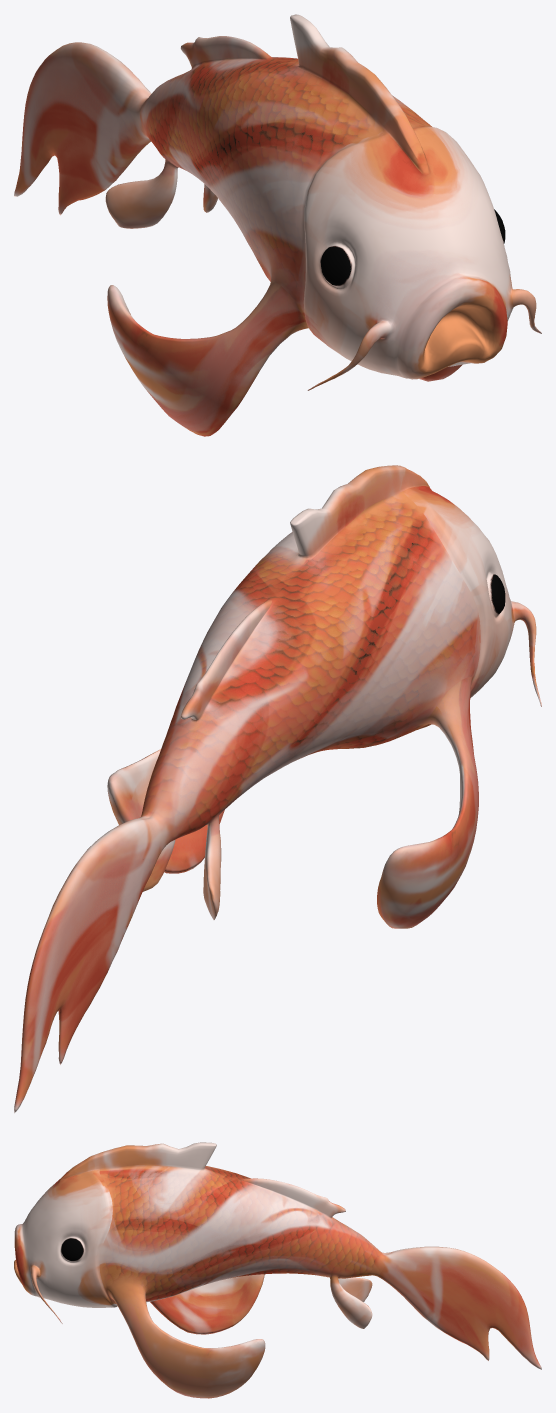
File: kai-fish.gltf
3 renders of one model, top to bottom at view 1: azimuth 30°, elevation 25°; view 2: azimuth 150°, elevation 25°; view 3: azimuth 270°, elevation 25°, orthographic. The views are drawn at different scales.
Parts seen in each view (by area): view 1: LG_modelado_Pez_pub:Pez_body_LG_modelado_Pez_pub:KoiSSS_Mtl_; view 2: LG_modelado_Pez_pub:Pez_body_LG_modelado_Pez_pub:KoiSSS_Mtl_; view 3: LG_modelado_Pez_pub:Pez_body_LG_modelado_Pez_pub:KoiSSS_Mtl_.
Part boxes in pixels (x1,y1,x2,y2): LG_modelado_Pez_pub:Pez_body_LG_modelado_Pez_pub:KoiSSS_Mtl_: (14, 14, 541, 436); LG_modelado_Pez_pub:Pez_body_LG_modelado_Pez_pub:KoiSSS_Mtl_: (14, 465, 541, 1113); LG_modelado_Pez_pub:Pez_body_LG_modelado_Pez_pub:KoiSSS_Mtl_: (14, 1142, 541, 1398).
Bounding box in the file's own units: 31.38 × 36.54 × 77.03.
Materials: 1 (1 with a texture image).
